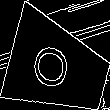O_E: (34, 39, 82, 96)
